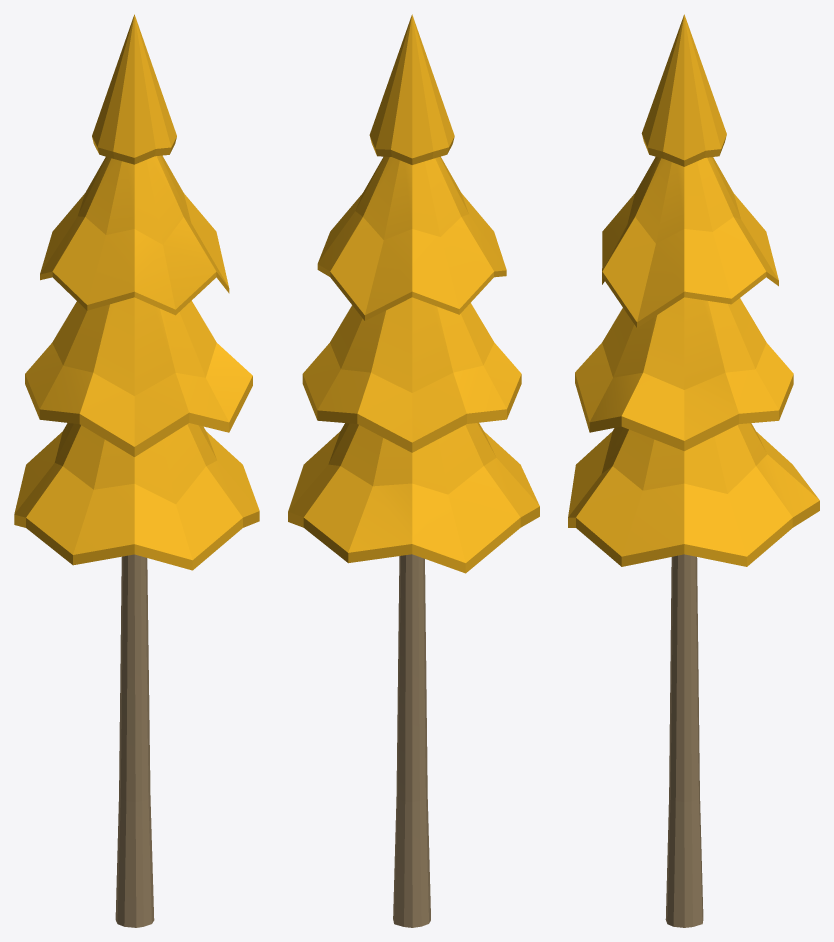
Rendered from more more tree3.fbx.
3 renders of one model, left to right at view 1: azimuth 30°, elevation 25°; view 2: azimuth 150°, elevation 25°; view 3: azimuth 270°, elevation 25°, orthographic.
Parts seen in each view (by area): view 1: tree_001_autumn; view 2: tree_001_autumn; view 3: tree_001_autumn.
Part boxes in pixels (left/top/right/bottom): tree_001_autumn: left=14, top=14, right=259, bottom=927; tree_001_autumn: left=288, top=14, right=539, bottom=927; tree_001_autumn: left=568, top=14, right=819, bottom=927.
Size of the model in its own units: 2.11 by 8.42 by 2.12.
